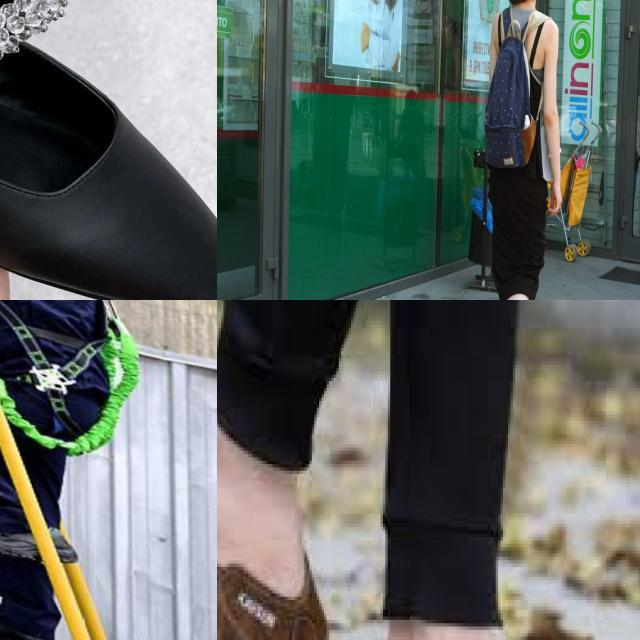Harness: (0, 300, 141, 457)
Sandals: (0, 0, 217, 300), (217, 376, 361, 640)
